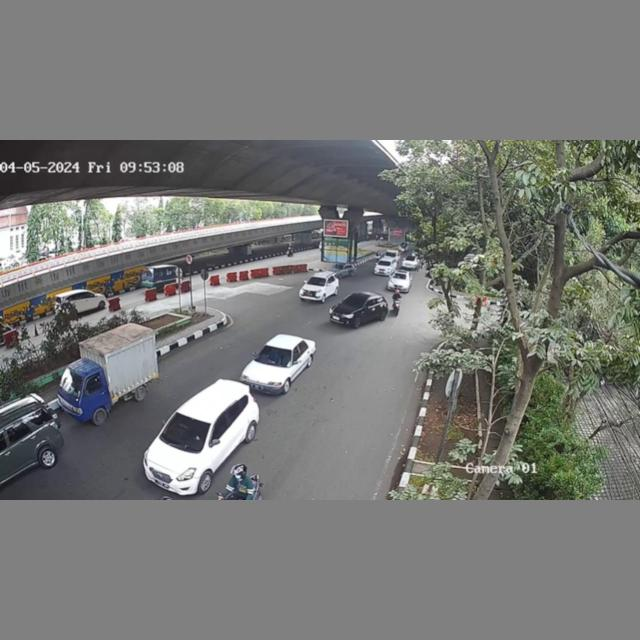windshield: (162, 414, 212, 449), (257, 345, 294, 367)
